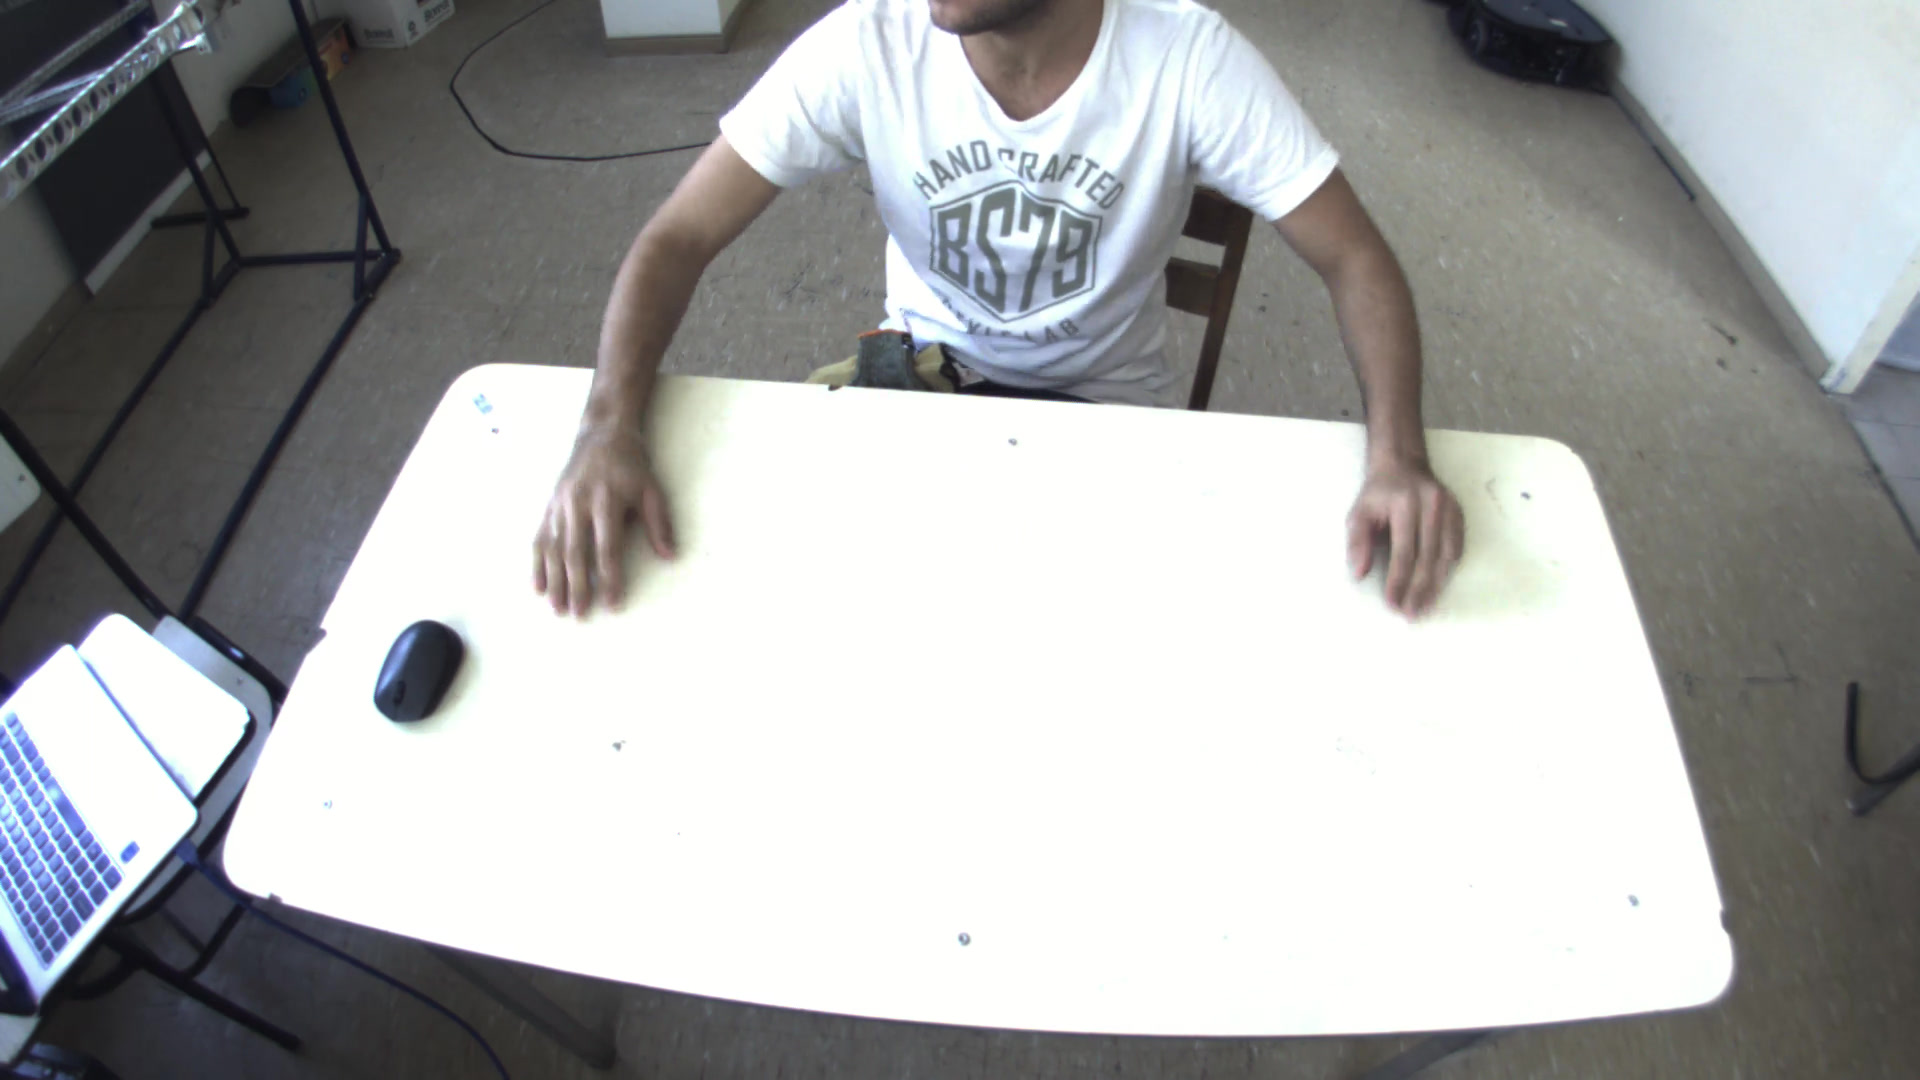hand: (516, 400, 687, 626), (1345, 427, 1484, 628)
